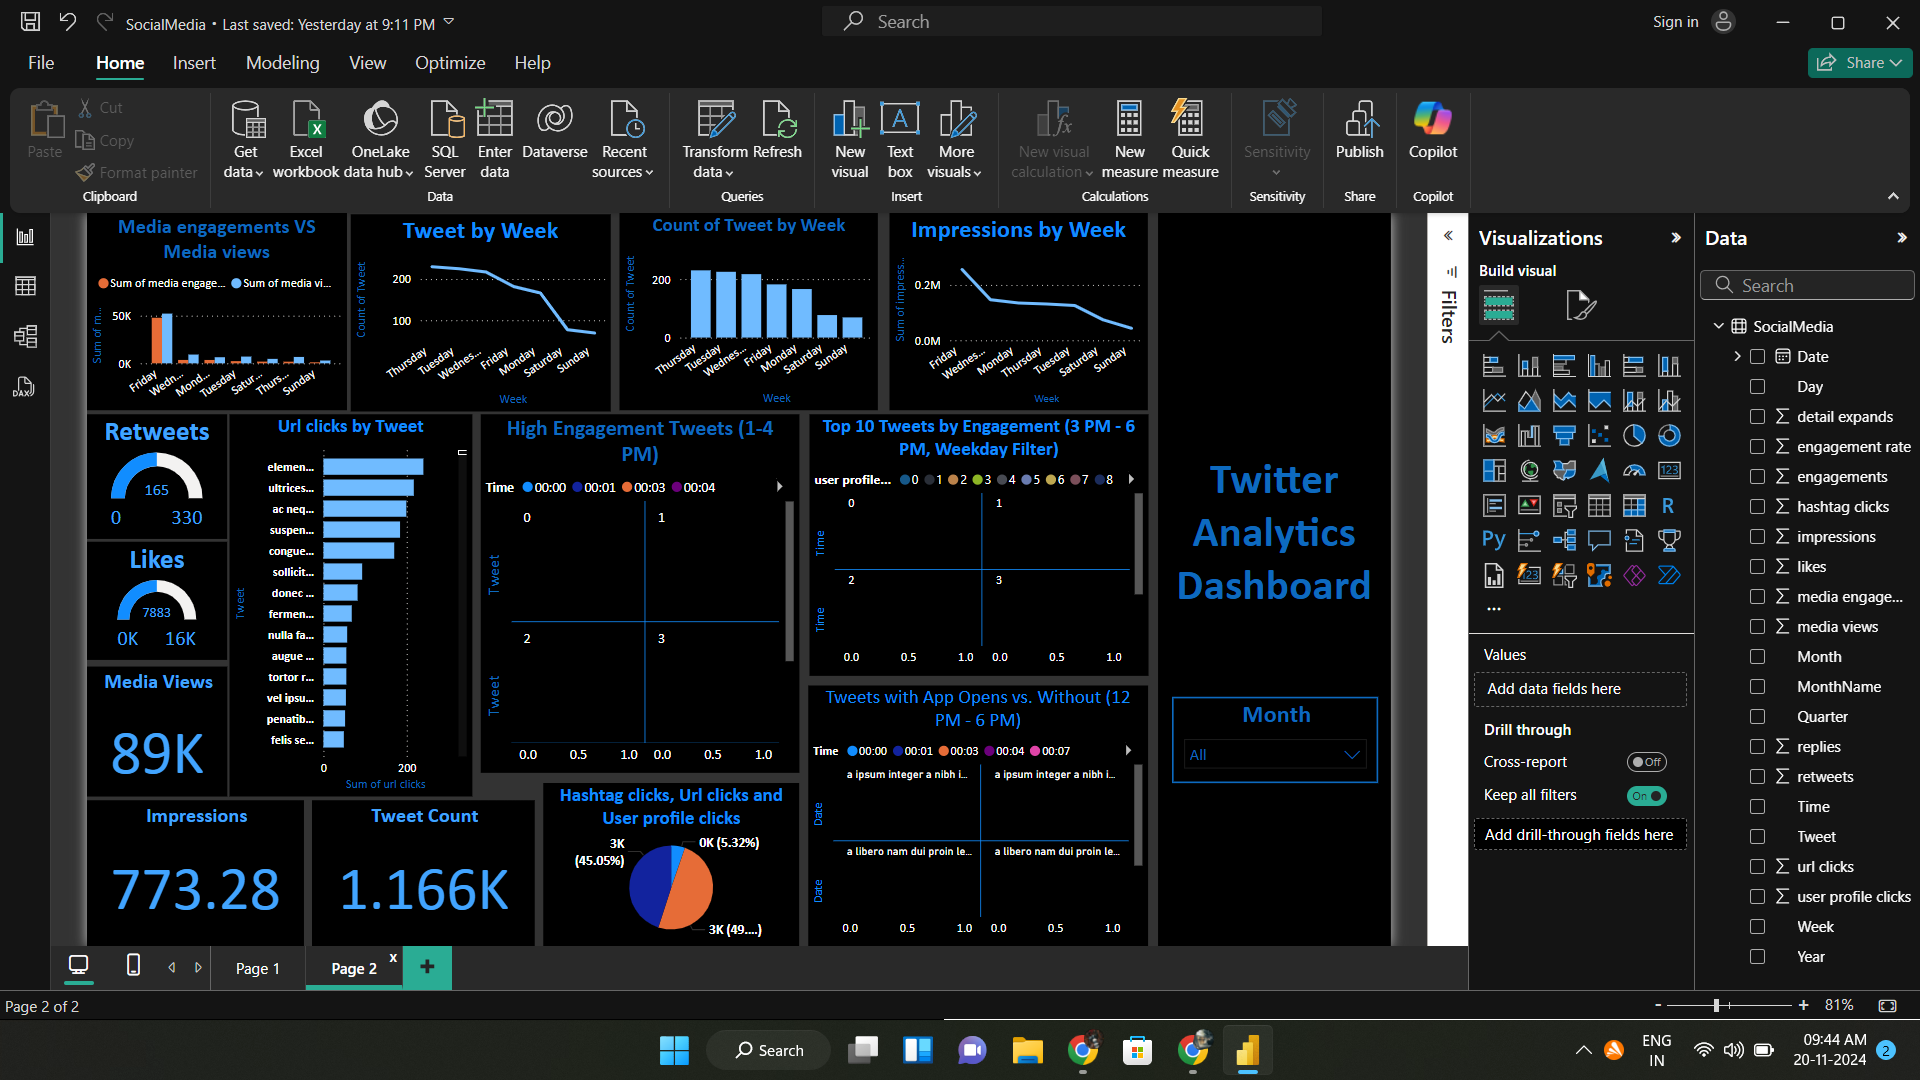

The dashboard page shown, as its layout file describes it:
{"tool":"powerbi","page":{"name":"Page 2","canvas":[1280,720],"ordinal":1},"visuals":[{"type":"textbox","box":[1051.5,0,228.2,720.2],"z":0},{"type":"cardVisual","title":"Media Views","fields":{"Data":["Sum(SocialMedia.media views)"]},"box":[0,445,137.5,127.5],"z":1000},{"type":"cardVisual","title":"Impressions","fields":{"Data":["CountNonNull(SocialMedia.impressions)","select"]},"box":[0,576.2,212.5,143.8],"z":2000},{"type":"cardVisual","title":"Tweet Count","fields":{"Data":["CountNonNull(SocialMedia.Tweet)"]},"box":[221.2,576.2,218.8,143.8],"z":3000},{"type":"gauge","title":"Likes","fields":{"Y":["Sum(SocialMedia.likes)"]},"box":[0,322.5,137.5,116.2],"z":4000},{"type":"gauge","title":"Retweets","fields":{"Y":["Max(SocialMedia.retweets)"]},"box":[0,197.5,137.5,122.5],"z":5000},{"type":"lineChart","title":"Tweet by Week","fields":{"Category":["SocialMedia.DayWeek"],"Y":["CountNonNull(SocialMedia.Tweet)"]},"box":[258.9,1.2,255.2,193.9],"z":6000},{"type":"lineChart","title":"Impressions by Week","fields":{"Category":["SocialMedia.DayWeek"],"Y":["Sum(SocialMedia.impressions)"]},"box":[787.5,0,253.8,193.8],"z":7000},{"type":"clusteredBarChart","title":"Url clicks by Tweet","fields":{"Y":["Sum(SocialMedia.url clicks)"],"Category":["SocialMedia.Tweet"]},"box":[139.9,197.5,238,375.5],"z":8000},{"type":"pieChart","title":"Hashtag clicks, Url clicks and User profile clicks","fields":{"Y":["Sum(SocialMedia.hashtag clicks)","Sum(SocialMedia.url clicks)","Sum(SocialMedia.user profile clicks)"]},"box":[447.9,559.5,251.5,160.7],"z":9000},{"type":"clusteredColumnChart","title":"Media engagements VS Media views ","fields":{"Category":["SocialMedia.Week"],"Y":["Sum(SocialMedia.media engagements)","Sum(SocialMedia.media views)"]},"box":[0,0,255,193.8],"z":10000},{"type":"clusteredColumnChart","fields":{"Category":["SocialMedia.Week"],"Y":["CountNonNull(SocialMedia.Tweet)"]},"box":[522.7,0,254,193.9],"z":11000},{"type":"slicer","title":"Month","fields":{"Values":["SocialMedia.Month"]},"box":[1065,475,202.5,85],"z":12000},{"type":"clusteredBarChart","title":"High Engagement Tweets (1-4 PM)","fields":{"Category":["SocialMedia.Tweet","SocialMedia.engagement rate"],"Series":["SocialMedia.Time"],"Rows":["SocialMedia.likes"]},"box":[386.5,197.5,312.9,352.1],"z":13000},{"type":"clusteredBarChart","title":"Top 10 Tweets by Engagement (3 PM - 6 PM, Weekday Filter)","fields":{"Category":["SocialMedia.Time","SocialMedia.likes","SocialMedia.impressions","SocialMedia.Tweet","SocialMedia.Date"],"Series":["SocialMedia.user profile clicks"],"Rows":["SocialMedia.retweets"]},"box":[709.2,197.5,332.5,256.4],"z":14000},{"type":"clusteredBarChart","title":" Tweets with App Opens vs. Without (12 PM - 6 PM)","fields":{"Category":["SocialMedia.Date","SocialMedia.impressions","SocialMedia.engagement rate","SocialMedia.likes","SocialMedia.retweets"],"Series":["SocialMedia.Time"],"Rows":["SocialMedia.Tweet"]},"box":[708.5,463.7,333.4,256.6],"z":15000}]}

Visuals, with their boxes on the page's 1280x720 design canvas (x1, y1, x2, y2). These are canvas units, not pixel positions in the 1920x1080 screenshot, which may show the page scaled, cropped or inside an application window:
textbox: 1052 0 1280 720
"Media Views" cardVisual: 0 445 138 572
"Impressions" cardVisual: 0 576 212 720
"Tweet Count" cardVisual: 221 576 440 720
"Likes" gauge: 0 322 138 439
"Retweets" gauge: 0 198 138 320
"Tweet by Week" lineChart: 259 1 514 195
"Impressions by Week" lineChart: 788 0 1041 194
"Url clicks by Tweet" clusteredBarChart: 140 198 378 573
"Hashtag clicks, Url clicks and User profile clicks" pieChart: 448 560 699 720
"Media engagements VS Media views " clusteredColumnChart: 0 0 255 194
clusteredColumnChart - SocialMedia.Week x CountNonNull(SocialMedia.Tweet): 523 0 777 194
"Month" slicer: 1065 475 1268 560
"High Engagement Tweets (1-4 PM)" clusteredBarChart: 386 198 699 550
"Top 10 Tweets by Engagement (3 PM - 6 PM, Weekday Filter)" clusteredBarChart: 709 198 1042 454
" Tweets with App Opens vs. Without (12 PM - 6 PM)" clusteredBarChart: 708 464 1042 720
